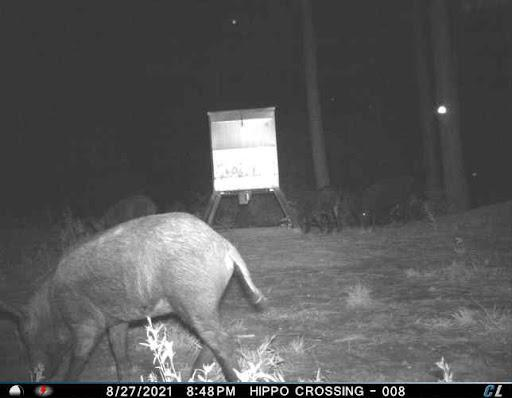Hog: (9, 191, 260, 382), (355, 175, 423, 229), (96, 187, 157, 236), (294, 185, 347, 238)
